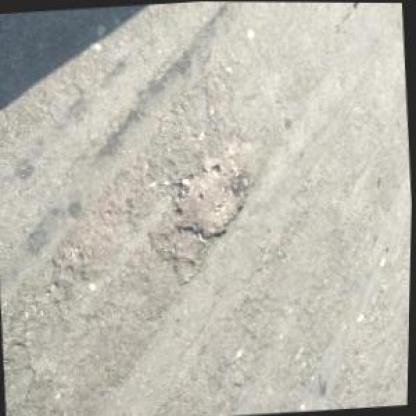pothole: (165, 147, 255, 248)
